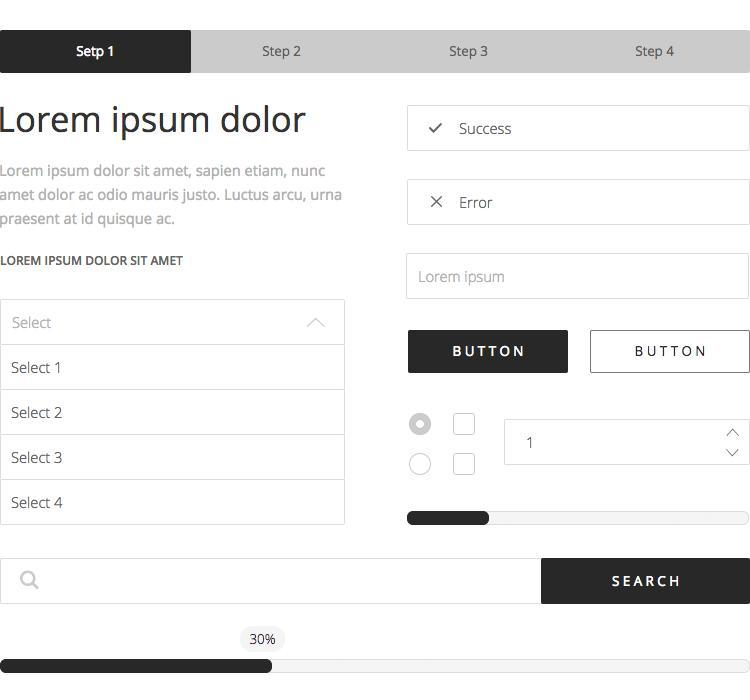button: (541, 561, 750, 605), (589, 330, 750, 375), (408, 330, 570, 373)
checkbox: (453, 414, 477, 437), (454, 453, 477, 477)
dropdown: (2, 298, 348, 347), (503, 420, 750, 465)
input: (3, 557, 542, 606), (408, 179, 750, 227), (405, 253, 750, 300), (407, 105, 750, 152)
label: (8, 355, 66, 381), (11, 491, 68, 516), (10, 405, 66, 426), (11, 449, 67, 469)
radio: (410, 453, 433, 476), (409, 414, 432, 436)
slider: (1, 653, 750, 682)
